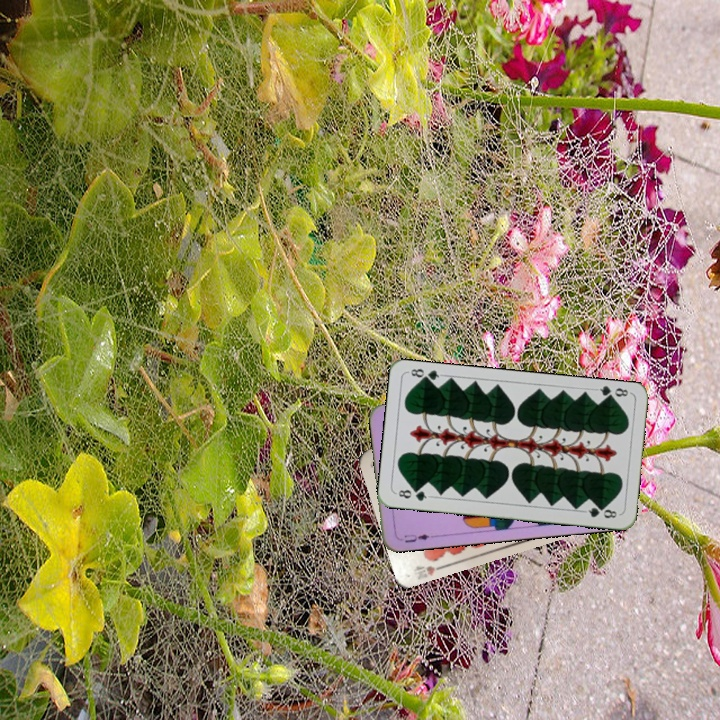EU: (400, 530, 436, 545)
G8: (592, 382, 632, 403), (392, 485, 433, 504)
H10: (407, 561, 448, 582)
